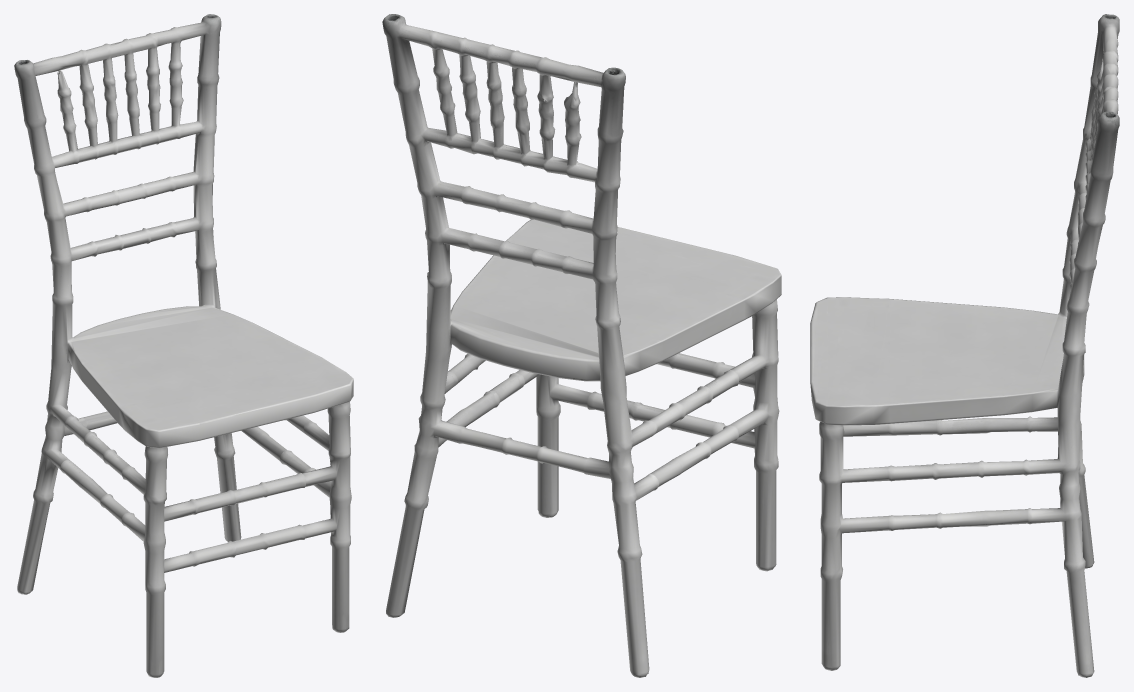
Rendered from White_Chiavari_chair_36InchesTall0218205911_texture.glb.
3 views of the same model, side by side, from view 1: azimuth 30°, elevation 25°; view 2: azimuth 150°, elevation 25°; view 3: azimuth 270°, elevation 25° (orthographic). The views are drawn at different scales.
Visible parts, largest first — view 1: Mesh_0.001; view 2: Mesh_0.001; view 3: Mesh_0.001.
Part boxes in pixels (x1,y1,x2,y2): Mesh_0.001: (14, 14, 353, 677); Mesh_0.001: (382, 14, 781, 677); Mesh_0.001: (810, 14, 1119, 677).
Bounding box in the file's own units: 0.4074 × 0.9144 × 0.46.
1 material, 1 textured.
